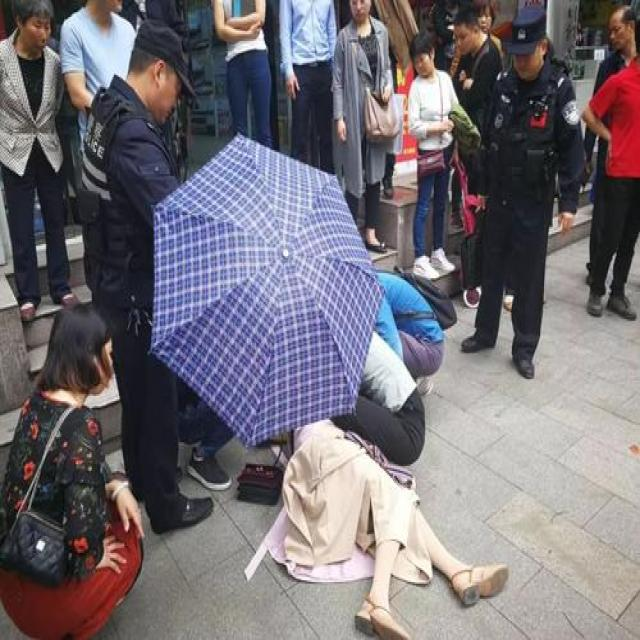10-: (1, 0, 637, 638)
down: (264, 377, 507, 638)
